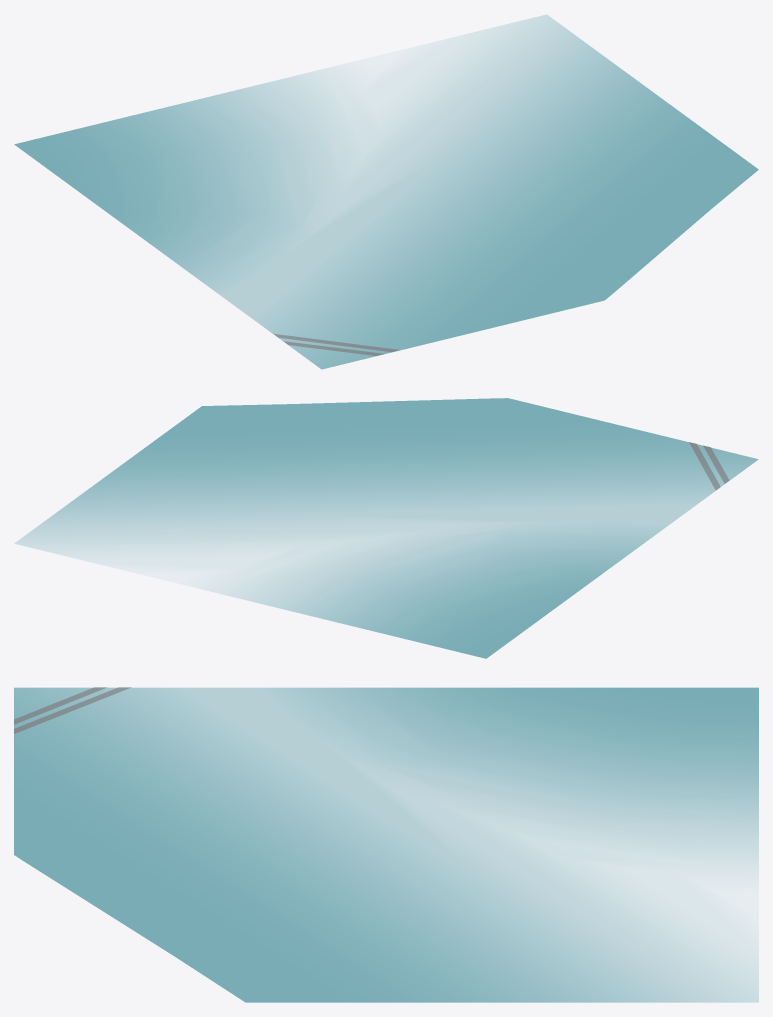
The picture shows the model from 3 angles, top to bottom: view 1: azimuth 30°, elevation 25°; view 2: azimuth 150°, elevation 25°; view 3: azimuth 270°, elevation 25°; orthographic projection. The views are drawn at different scales.
Visible parts, largest first — view 1: city; view 2: city; view 3: city.
Part boxes in pixels (bbox=[...]): city: bbox=[14, 14, 758, 369]; city: bbox=[14, 398, 758, 658]; city: bbox=[14, 687, 758, 1002].
Bounding box in the file's own units: 500 × 0.24 × 500.
